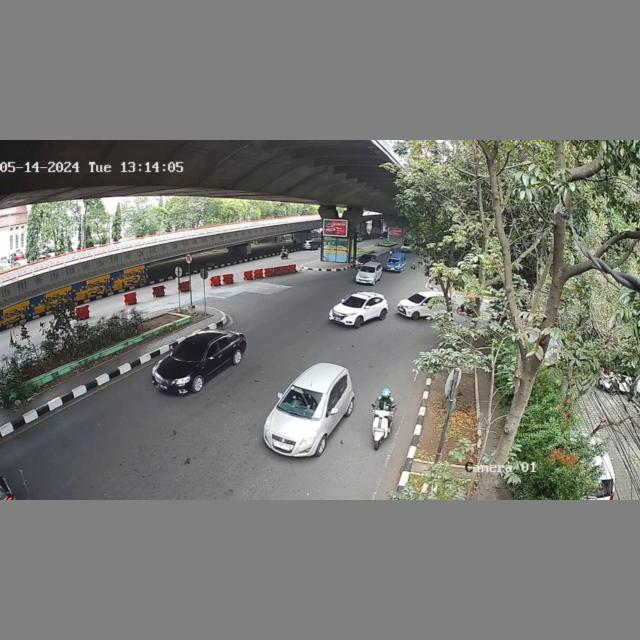windshield: (281, 384, 325, 419), (170, 338, 210, 362), (341, 294, 365, 309)
